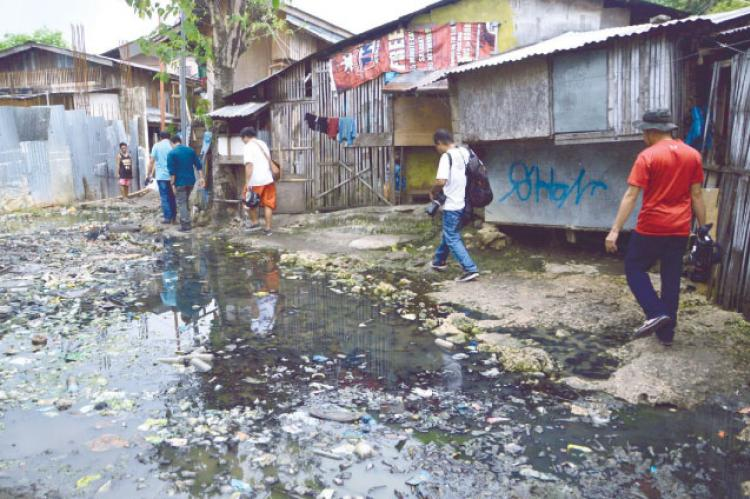person: (602, 102, 712, 348), (409, 111, 496, 294), (234, 118, 287, 241), (166, 128, 204, 237), (149, 123, 182, 220), (106, 133, 143, 200)
water: (6, 209, 221, 499), (386, 328, 738, 489), (216, 312, 389, 499), (217, 250, 278, 334), (256, 284, 371, 325)
